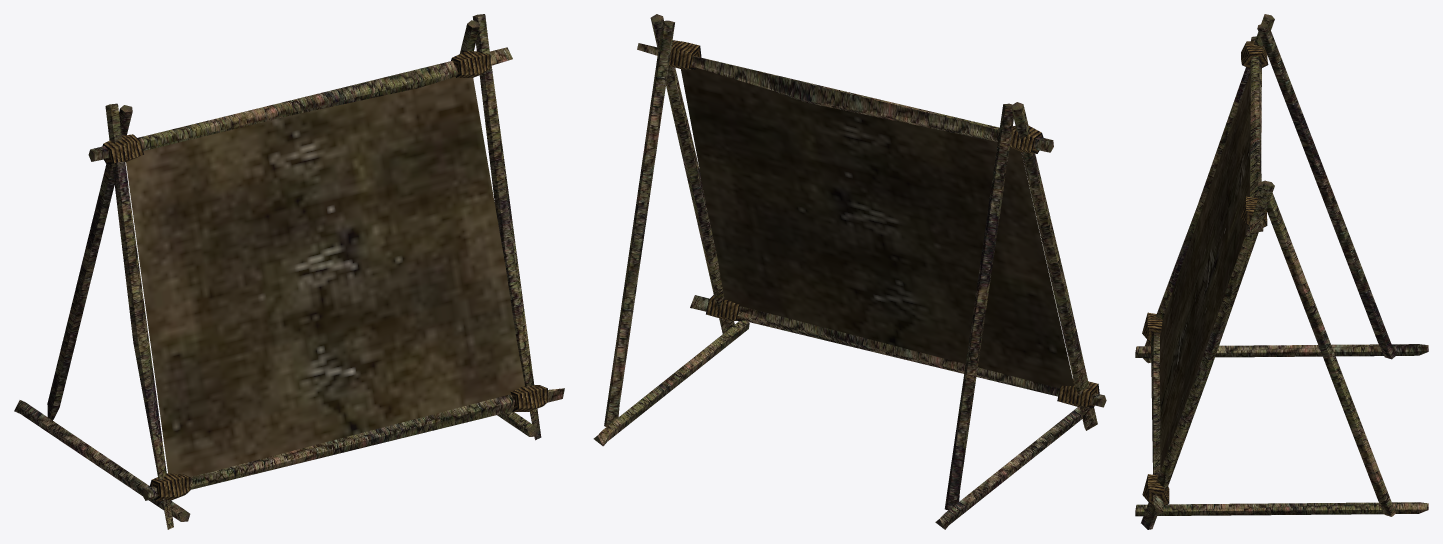
File: SKORZANE_PLATY.glb
3 renders of one model, left to right at view 1: azimuth 30°, elevation 25°; view 2: azimuth 150°, elevation 25°; view 3: azimuth 270°, elevation 25°, orthographic. The views are drawn at different scales.
Parts seen in each view (by area): view 1: SKORZANE_PLATY; view 2: SKORZANE_PLATY; view 3: SKORZANE_PLATY.
Boxes of the visible parts, left/top/right/bottom form: SKORZANE_PLATY: left=14, top=14, right=564, bottom=529; SKORZANE_PLATY: left=593, top=14, right=1106, bottom=529; SKORZANE_PLATY: left=1135, top=14, right=1428, bottom=529.
Bounding box in the file's own units: 0.9577 × 0.8246 × 0.6264.
Materials: 3 (3 with a texture image).
